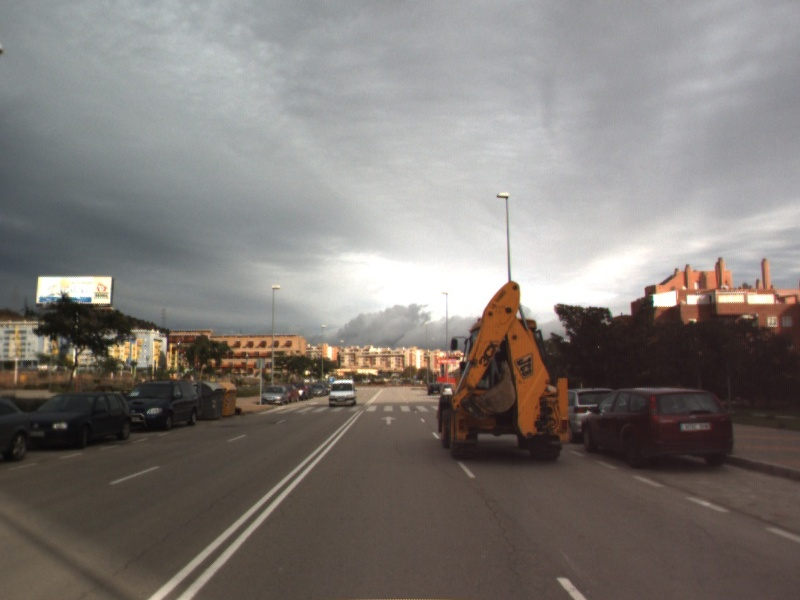STRAIGHT: (379, 414, 399, 426)
